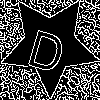D: (24, 20, 71, 74)
